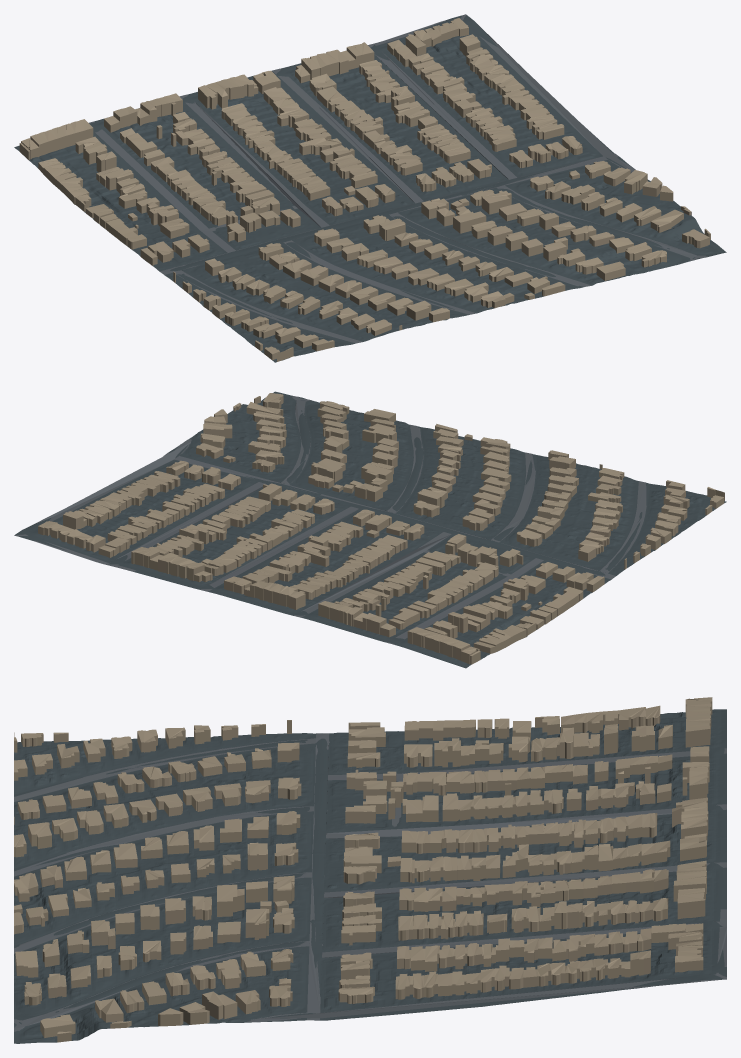
File: epsg26910-1424-10872.lod0.glb
The picture shows the model from 3 angles, top to bottom: view 1: azimuth 30°, elevation 25°; view 2: azimuth 150°, elevation 25°; view 3: azimuth 270°, elevation 25°; orthographic projection. The views are drawn at different scales.
Parts seen in each view (by area): view 1: epsg26910-1424-10872-lod0; view 2: epsg26910-1424-10872-lod0; view 3: epsg26910-1424-10872-lod0.
Part boxes in pixels (left/top/right/bottom): epsg26910-1424-10872-lod0: left=14, top=14, right=726, bottom=362; epsg26910-1424-10872-lod0: left=14, top=391, right=726, bottom=668; epsg26910-1424-10872-lod0: left=14, top=697, right=726, bottom=1043.
Size of the model in its own units: 384 by 44.28 by 384.
